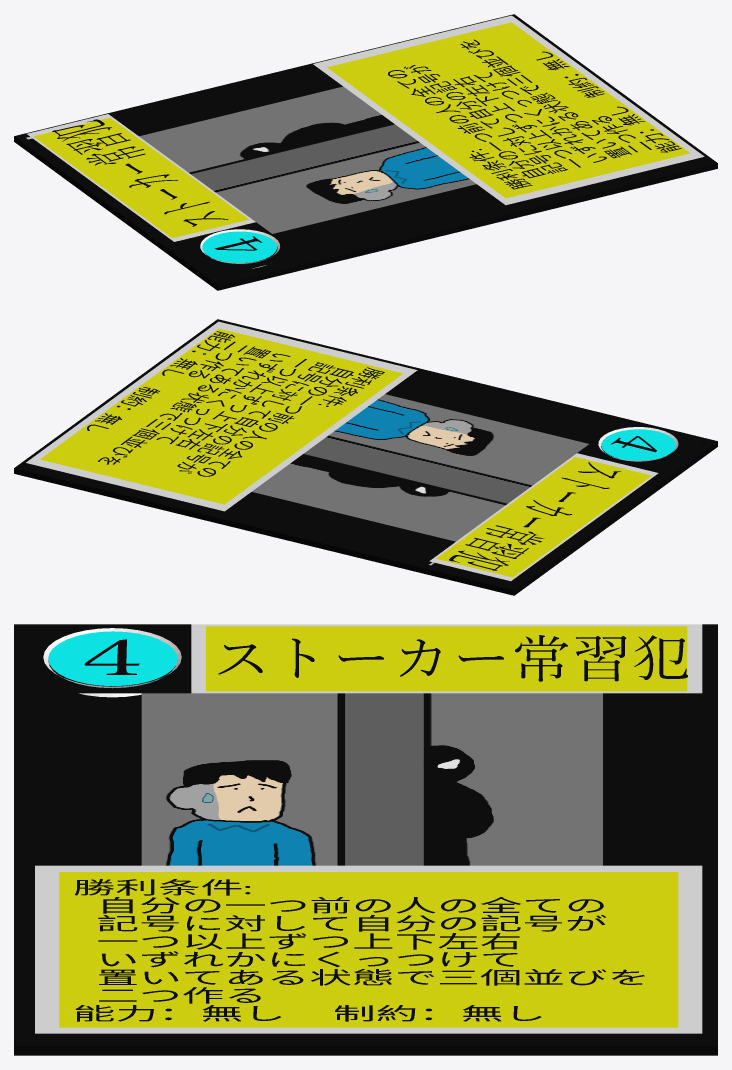
Rendered from ストーカー常習犯黒.fbx.
3 renders of one model, top to bottom at view 1: azimuth 30°, elevation 25°; view 2: azimuth 150°, elevation 25°; view 3: azimuth 270°, elevation 25°, orthographic. The views are drawn at different scales.
Parts seen in each view (by area): view 1: 説明欄, 平面.001, カード本体.001, 名前欄, 説明文, 円, 平面, 名前; view 2: 説明欄, 平面.001, カード本体.001, 名前欄, 説明文, 円, 平面, 名前; view 3: 説明欄, 平面.001, カード本体.001, 名前欄, 説明文, 平面, 円, 名前, コスト蘭.
Boxes of the visible parts, x1,y1,x2,y2 form: 説明欄: [313, 15, 704, 205]; 平面.001: [139, 86, 476, 233]; カード本体.001: [14, 14, 717, 290]; 名前欄: [27, 114, 255, 241]; 説明文: [388, 39, 681, 189]; 円: [202, 231, 276, 262]; 平面: [174, 222, 302, 275]; 名前: [52, 119, 228, 226]; 説明欄: [26, 321, 417, 511]; 平面.001: [252, 394, 588, 541]; カード本体.001: [14, 319, 717, 595]; 名前欄: [429, 453, 658, 581]; 説明文: [87, 331, 384, 476]; 円: [601, 429, 675, 460]; 平面: [577, 419, 704, 472]; 名前: [449, 462, 621, 570]; 説明欄: [35, 865, 702, 1033]; 平面.001: [141, 693, 602, 865]; カード本体.001: [14, 624, 717, 1055]; 名前欄: [191, 624, 702, 693]; 説明文: [75, 879, 644, 1021]; 平面: [30, 624, 191, 693]; 円: [48, 631, 177, 686]; 名前: [218, 635, 687, 681]; コスト蘭: [43, 628, 181, 697].
Bounding box in the file's own units: 281 × 6.07 × 198.
